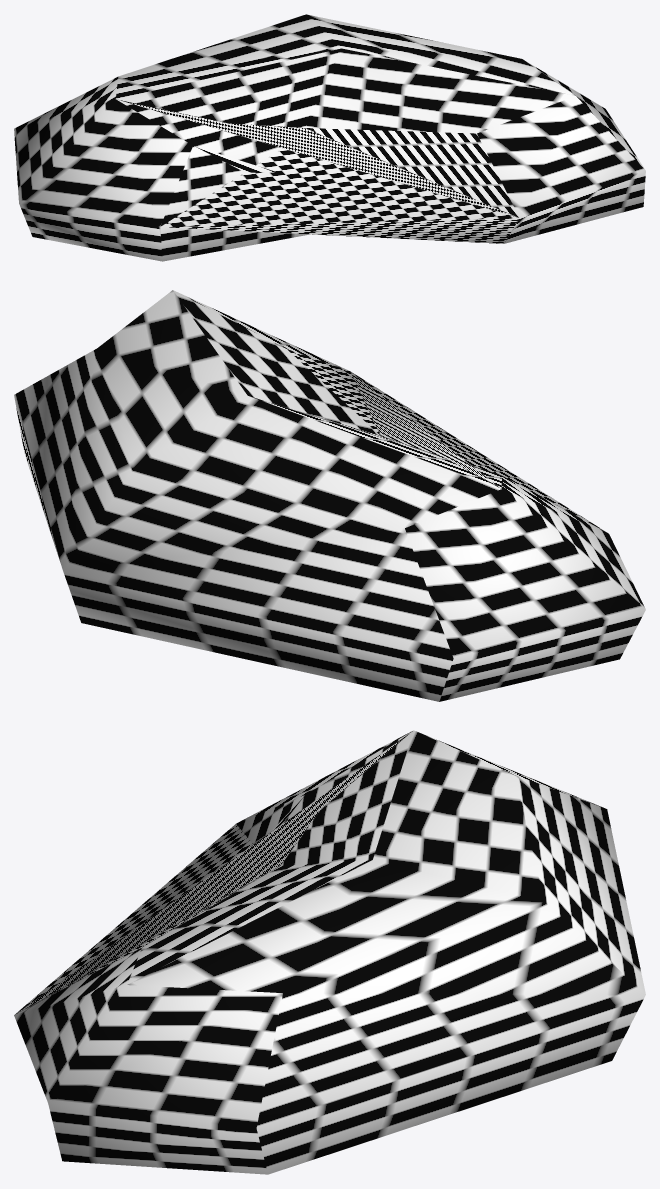
Rendered from nast23.dae.
3 views of the same model, one above another, from view 1: azimuth 30°, elevation 25°; view 2: azimuth 150°, elevation 25°; view 3: azimuth 270°, elevation 25° (orthographic). The views are drawn at different scales.
Parts seen in each view (by area): view 1: stone00, stone02; view 2: stone00, stone02; view 3: stone00, stone02.
Boxes of the visible parts, <box> form: stone00: <box>14,14,645,261</box>; stone02: <box>119,100,519,243</box>; stone00: <box>14,290,645,701</box>; stone02: <box>287,349,605,531</box>; stone00: <box>14,730,645,1174</box>; stone02: <box>15,731,412,1014</box>.
Bounding box in the file's own units: 0.5225 × 0.3818 × 0.1146.
Materials: 1 (1 with a texture image).
